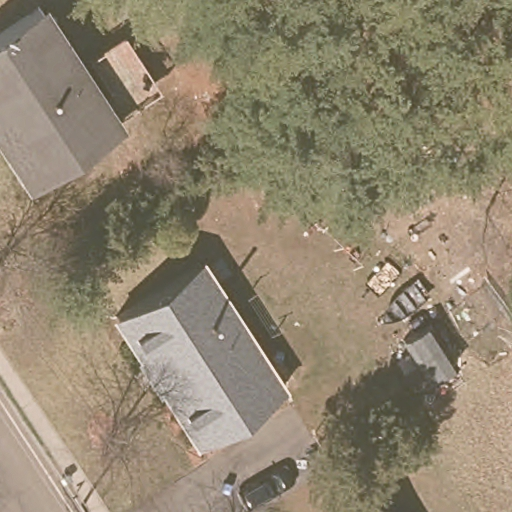DT: (59, 463, 93, 512)
